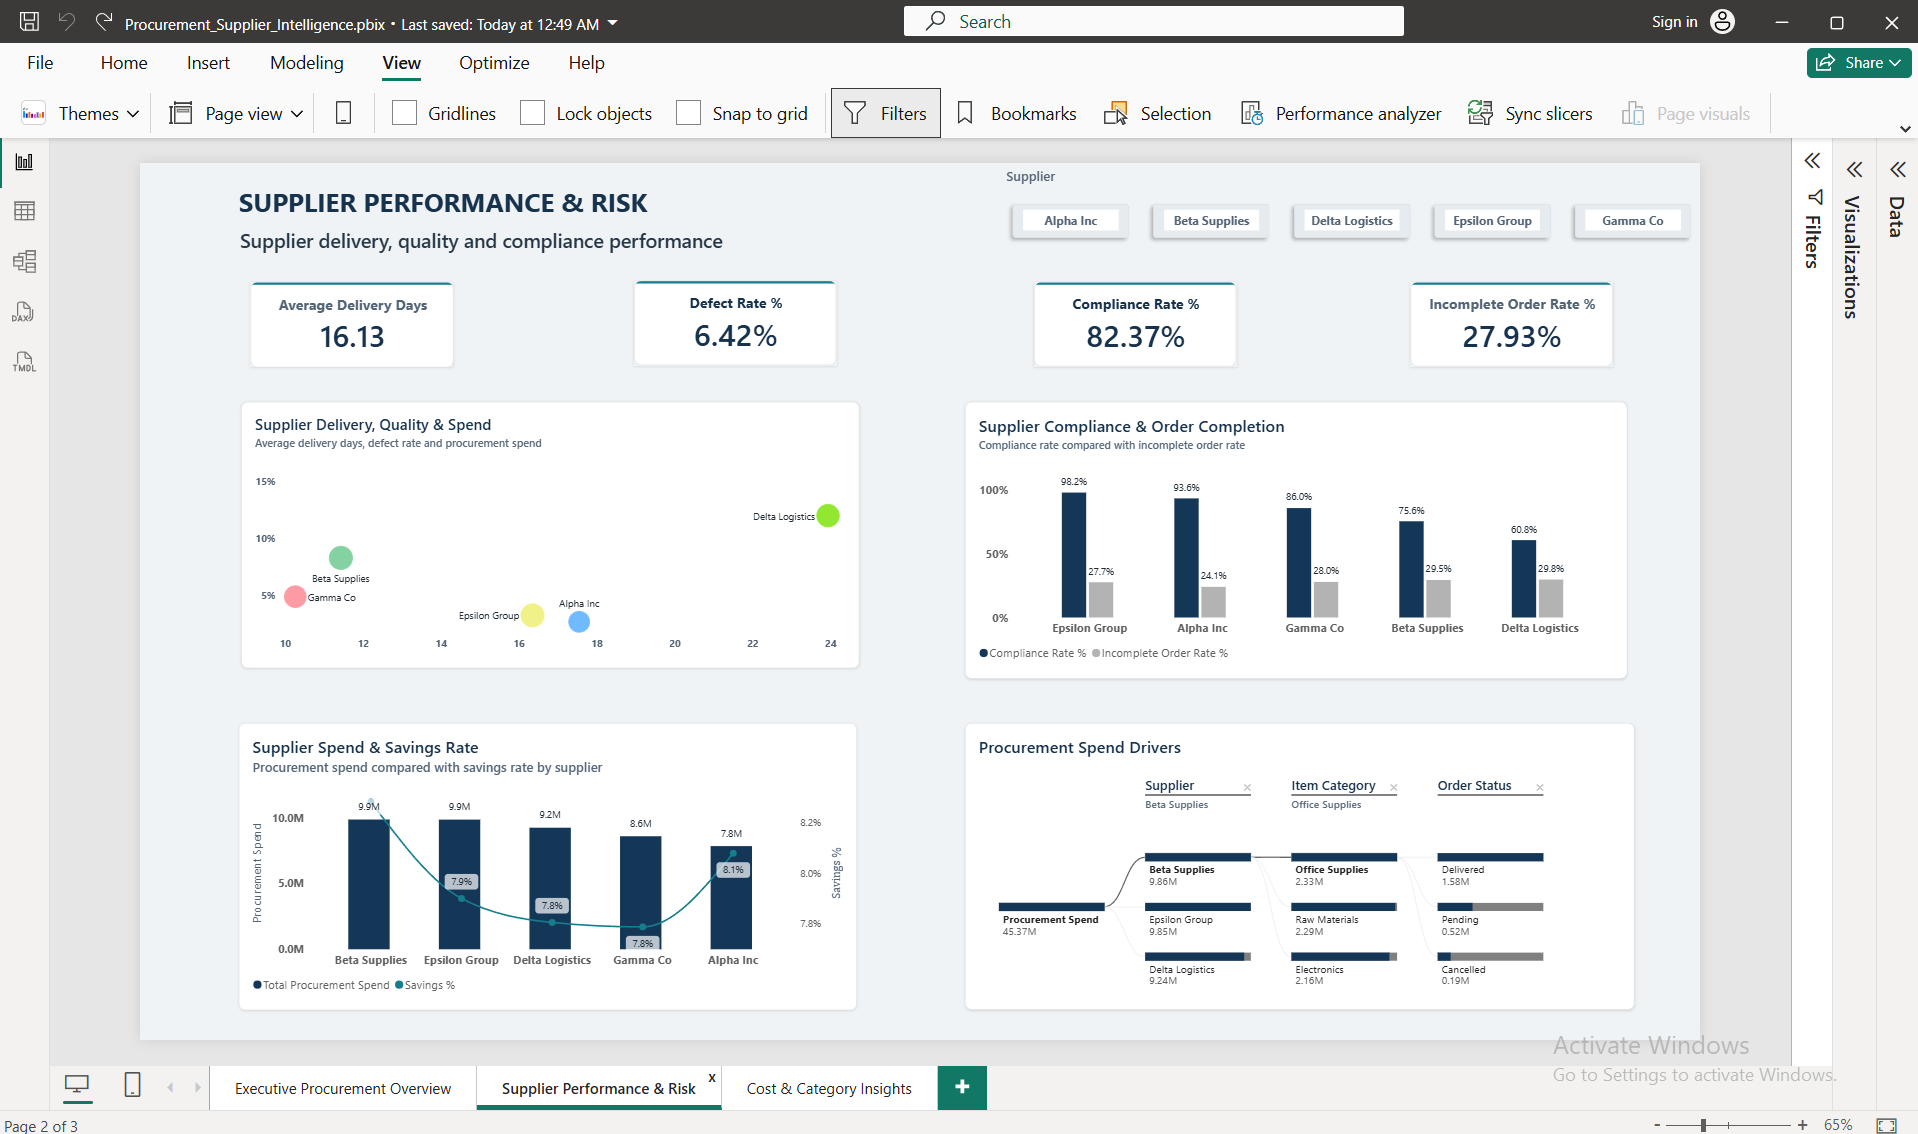

This screenshot's page, from the dashboard's own definition file:
{"tool":"powerbi","page":{"name":"Supplier Performance & Risk","canvas":[1920,1080],"ordinal":1},"visuals":[{"type":"cardVisual","fields":{"Data":["Avg(Procurement.Delivery_Days)"]},"box":[135.2,146.3,250,105],"z":0},{"type":"cardVisual","fields":{"Data":["Procurement.Defect Rate %"]},"box":[607.4,144.4,250,105],"z":1000},{"type":"cardVisual","fields":{"Data":["Procurement.Compliance Rate %"]},"box":[1100,146.3,250,105],"z":2000},{"type":"cardVisual","fields":{"Data":["Procurement.Incomplete Order Rate %"]},"box":[1563,146.3,250,105],"z":3000},{"type":"scatterChart","title":"Supplier Delivery, Quality & Spend","fields":{"Series":["Procurement.Supplier_Display"],"Size":["Procurement.Total Procurement Spend"],"X":["Avg(Procurement.Delivery_Days)"],"Y":["Procurement.Defect Rate %"]},"box":[124.1,294.4,761.1,327.8],"z":4000},{"type":"clusteredColumnChart","title":"Supplier Compliance & Order Completion","fields":{"Category":["Procurement.Supplier_Display"],"Y":["Procurement.Compliance Rate %","Procurement.Incomplete Order Rate %"]},"box":[1014.8,294.4,814.8,340.7],"z":5000},{"type":"lineClusteredColumnComboChart","title":"Supplier Spend & Savings Rate","fields":{"Category":["Procurement.Supplier_Display"],"Y":["Procurement.Total Procurement Spend"],"Y2":["Procurement.Savings %"]},"box":[122.2,688.9,761.1,353.7],"z":6000},{"type":"decompositionTreeVisual","title":"Procurement Spend Drivers","fields":{"Analyze":["Procurement.Total Procurement Spend"],"ExplainBy":["Procurement.Supplier_Display","Procurement.Item_Category_Display","Procurement.Order_Status"]},"box":[1015.1,689,823.9,352.6],"z":7000},{"type":"advancedSlicerVisual","fields":{"Values":["Procurement.Supplier_Display"]},"box":[1065.7,5.2,852.9,95.9],"z":8000},{"type":"textbox","box":[122.1,26.2,526.7,52.3],"z":9000},{"type":"textbox","box":[123.8,78.5,607,43.6],"z":10000}]}

Visuals, with their boxes on the page's 1920x1080 design canvas (x1, y1, x2, y2). These are canvas units, not pixel positions in the 1918x1134 screenshot, which may show the page scaled, cropped or inside an application window:
cardVisual - Avg(Procurement.Delivery_Days): <bbox>135, 146, 385, 251</bbox>
cardVisual - Procurement.Defect Rate %: <bbox>607, 144, 857, 249</bbox>
cardVisual - Procurement.Compliance Rate %: <bbox>1100, 146, 1350, 251</bbox>
cardVisual - Procurement.Incomplete Order Rate %: <bbox>1563, 146, 1813, 251</bbox>
"Supplier Delivery, Quality & Spend" scatterChart: <bbox>124, 294, 885, 622</bbox>
"Supplier Compliance & Order Completion" clusteredColumnChart: <bbox>1015, 294, 1830, 635</bbox>
"Supplier Spend & Savings Rate" lineClusteredColumnComboChart: <bbox>122, 689, 883, 1043</bbox>
"Procurement Spend Drivers" decompositionTreeVisual: <bbox>1015, 689, 1839, 1042</bbox>
advancedSlicerVisual - Procurement.Supplier_Display: <bbox>1066, 5, 1919, 101</bbox>
textbox: <bbox>122, 26, 649, 78</bbox>
textbox: <bbox>124, 78, 731, 122</bbox>
